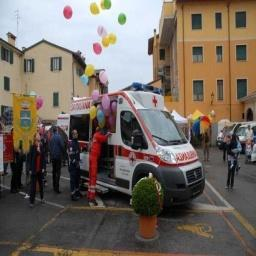Ambulance: (69, 91, 204, 205)
